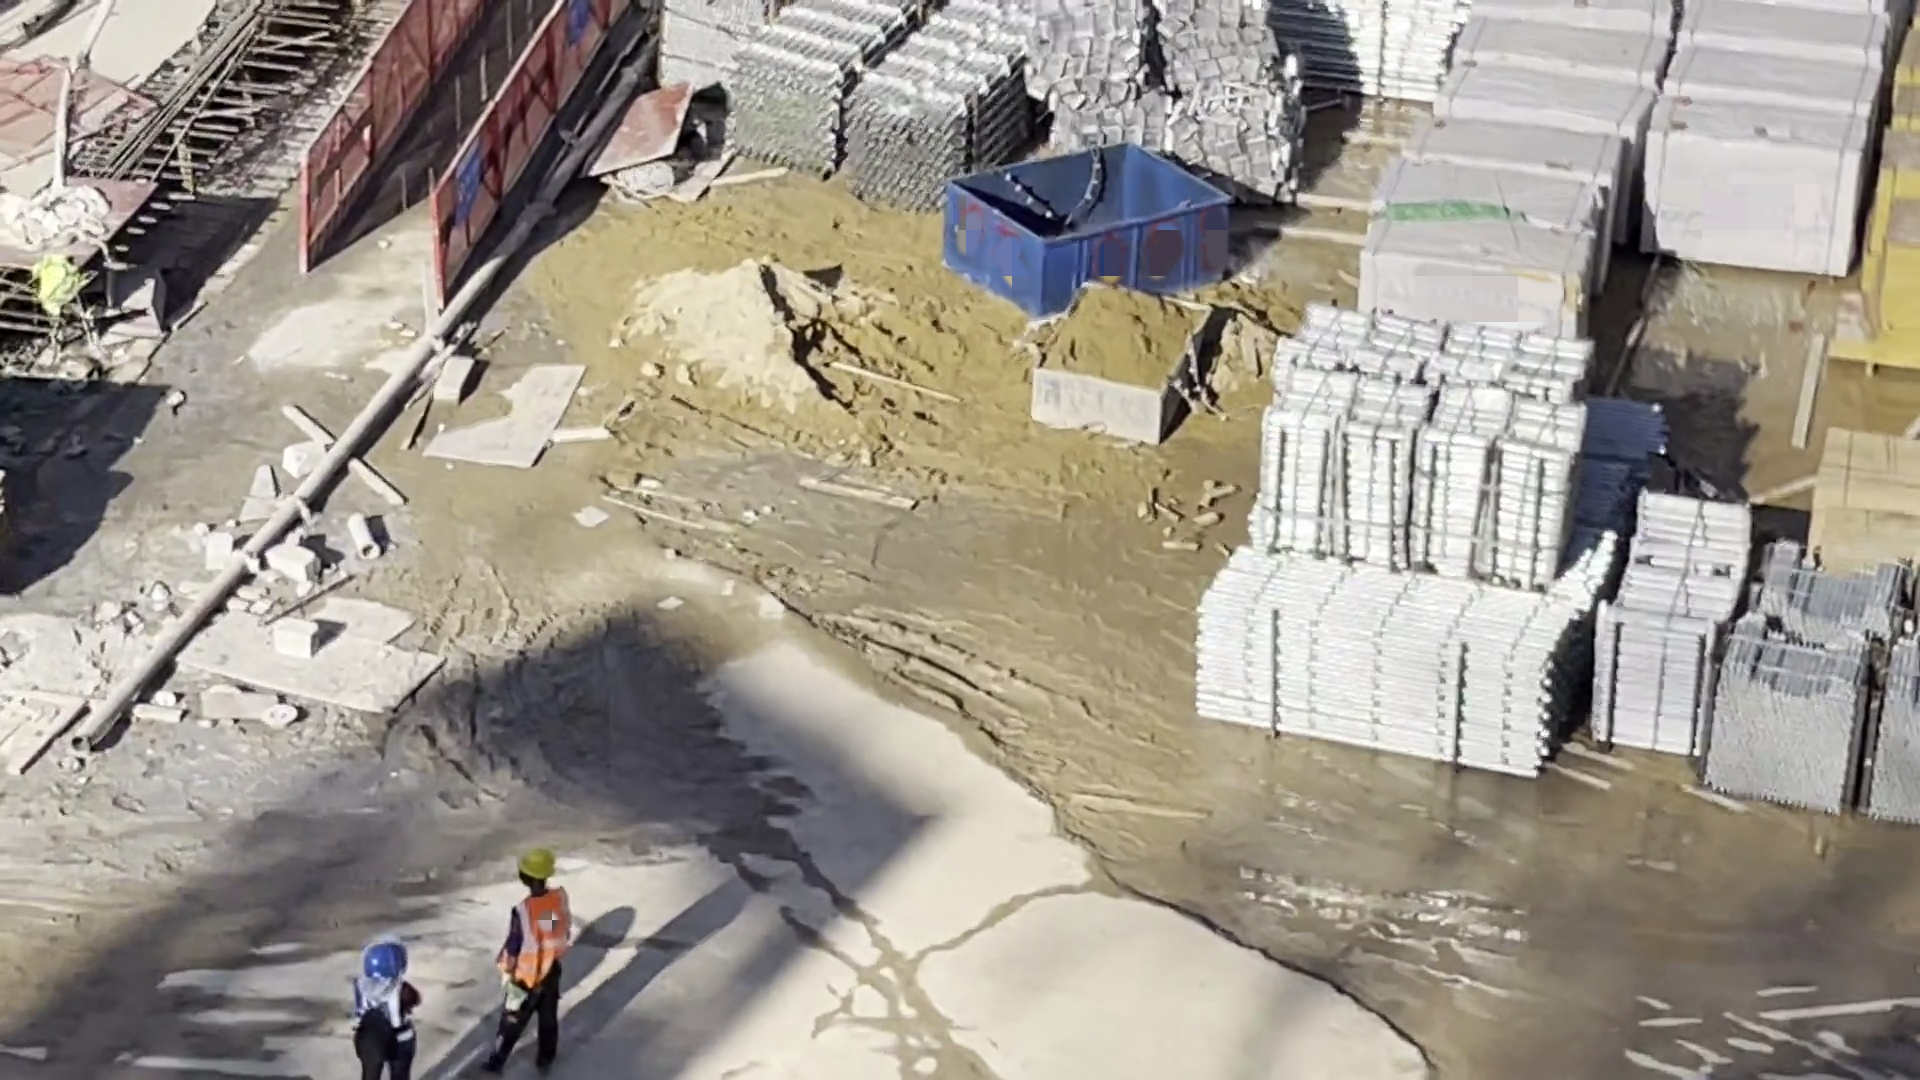board: (1829, 108, 1920, 364)
fence: (426, 29, 599, 291), (369, 1, 444, 146), (313, 98, 356, 256)
helmet: (356, 936, 403, 986), (523, 841, 553, 894)
hopper: (941, 131, 1223, 302)
person: (498, 843, 573, 1065), (336, 946, 423, 1080)
scaffold: (1181, 542, 1584, 779), (1294, 324, 1558, 561), (1741, 539, 1904, 859), (1594, 494, 1748, 791), (1244, 1, 1461, 102), (863, 17, 978, 176), (706, 1, 826, 144), (1909, 602, 1920, 663)
vest: (506, 894, 568, 1009), (358, 974, 419, 1032)
wood: (1814, 399, 1920, 560)
